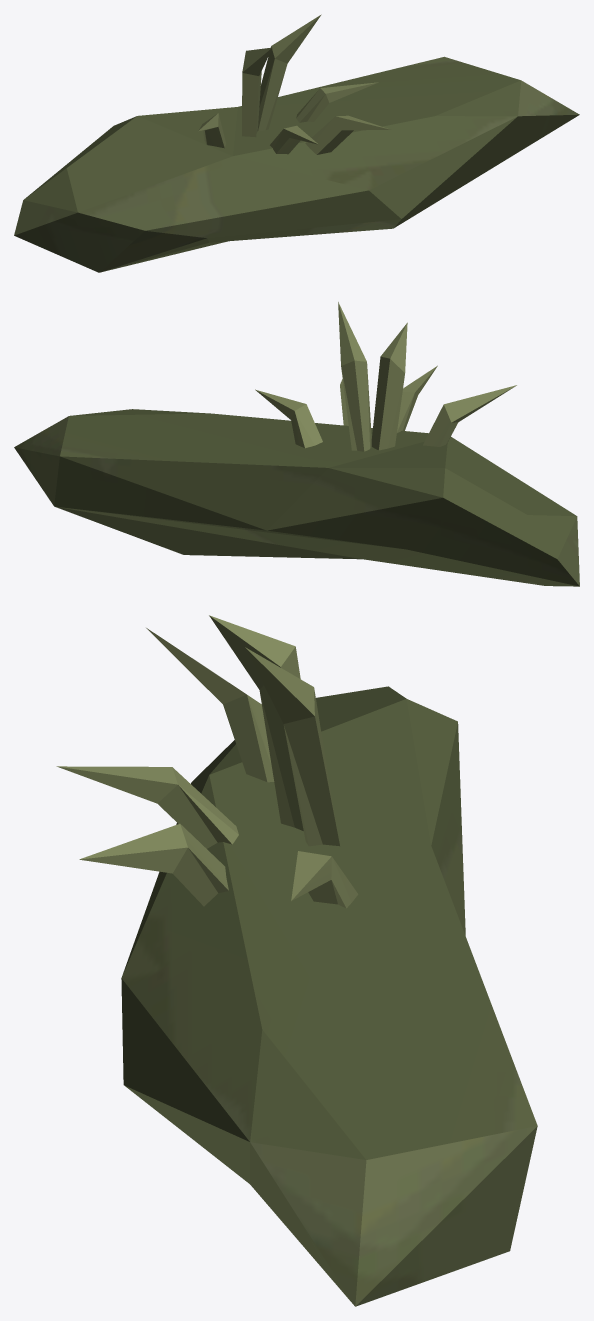
Rendered from SM_Env_Overgrowth_Edge_02.obj.
3 views of the same model, one above another, from view 1: azimuth 30°, elevation 25°; view 2: azimuth 150°, elevation 25°; view 3: azimuth 270°, elevation 25° (orthographic). The views are drawn at different scales.
Visible parts, largest first — view 1: SM_Env_Overgrowth_Edge_02_1, SM_Env_Overgrowth_Edge_02_0; view 2: SM_Env_Overgrowth_Edge_02_1, SM_Env_Overgrowth_Edge_02_0; view 3: SM_Env_Overgrowth_Edge_02_1, SM_Env_Overgrowth_Edge_02_0.
Part boxes in pixels (left/top/right/bottom): SM_Env_Overgrowth_Edge_02_1: left=14, top=56, right=579, bottom=272; SM_Env_Overgrowth_Edge_02_0: left=198, top=14, right=390, bottom=154; SM_Env_Overgrowth_Edge_02_1: left=14, top=409, right=579, bottom=586; SM_Env_Overgrowth_Edge_02_0: left=255, top=302, right=516, bottom=451; SM_Env_Overgrowth_Edge_02_1: left=121, top=686, right=537, bottom=1306; SM_Env_Overgrowth_Edge_02_0: left=56, top=615, right=358, bottom=908.
Size of the model in its own units: 2.2 by 0.8978 by 0.825.
2 materials, 2 textured.
